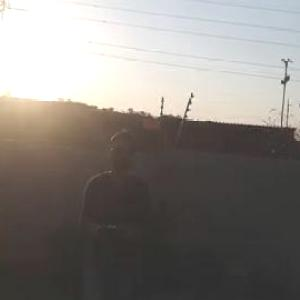follow: (72, 124, 162, 299)
